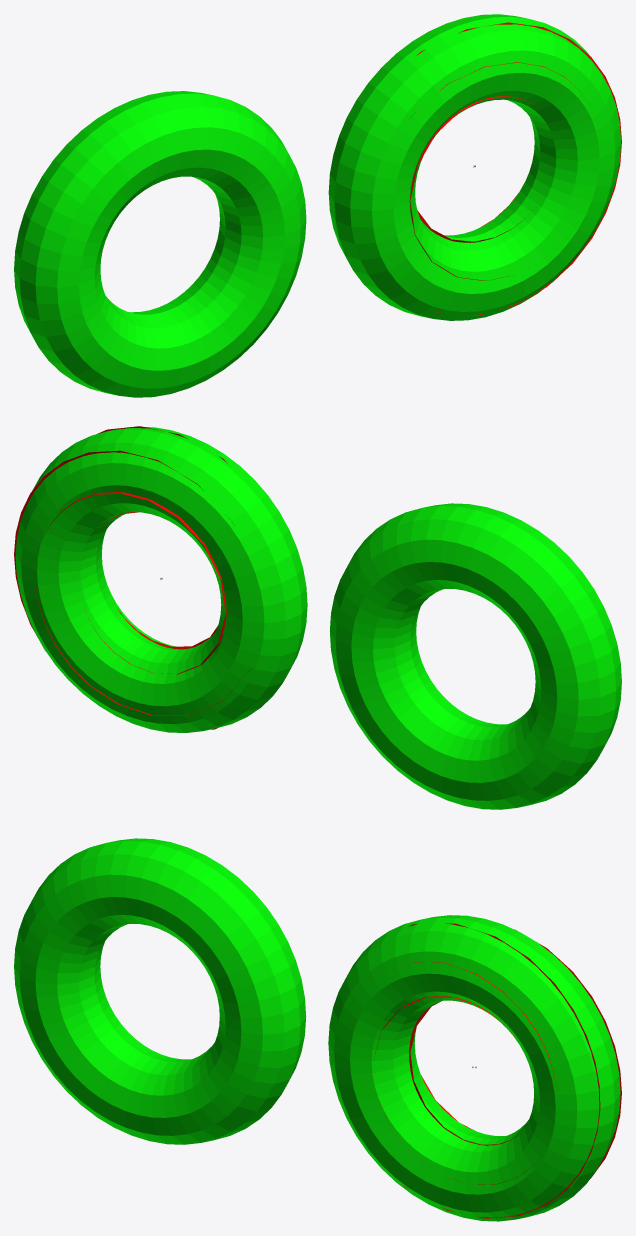
Rendered from l6_1_website.glb.
3 renders of one model, top to bottom at view 1: azimuth 30°, elevation 25°; view 2: azimuth 150°, elevation 25°; view 3: azimuth 330°, elevation 25°, orthographic.
Parts seen in each view (by area): view 1: Torus1, Torus2, l3_1; view 2: Torus1, Torus2, l3_1; view 3: Torus1, Torus2, l3_1.
Part boxes in pixels (x1,y1,x2,y2): Torus1: [14, 91, 306, 397]; Torus2: [328, 14, 620, 320]; l3_1: [409, 22, 621, 315]; Torus1: [330, 503, 621, 809]; Torus2: [15, 427, 307, 732]; l3_1: [14, 426, 257, 729]; Torus1: [14, 838, 306, 1144]; Torus2: [328, 915, 620, 1221]; l3_1: [374, 923, 621, 1218].
Bounding box in the file's own units: 318 × 150 × 40.27.
